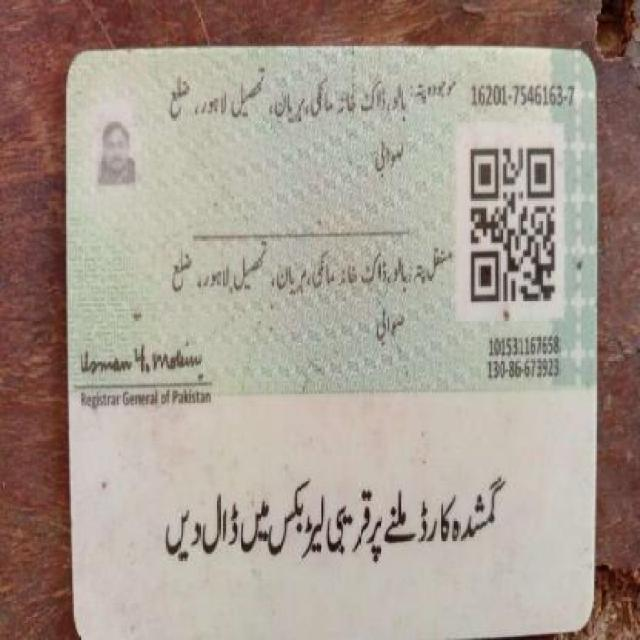Back: (61, 45, 598, 632)
